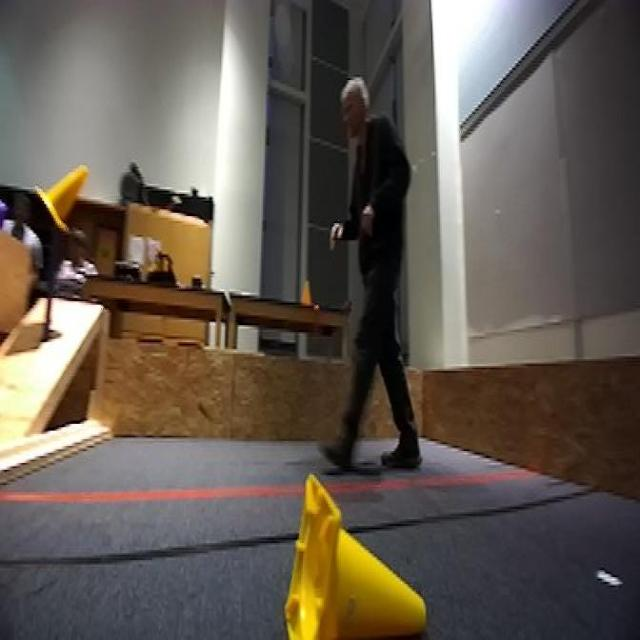frc_cone: (279, 470, 430, 640), (34, 162, 90, 236)
